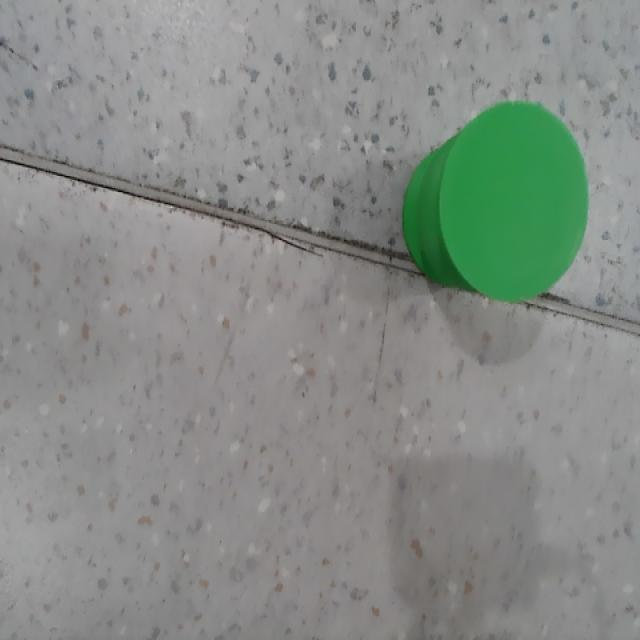r: (442, 104, 587, 302)
